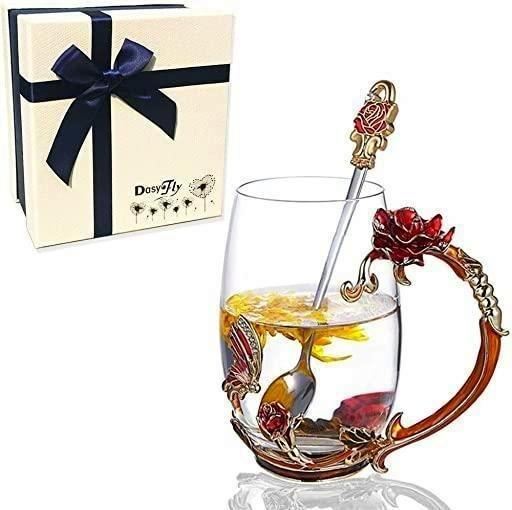glass-mug: (217, 170, 512, 485)
